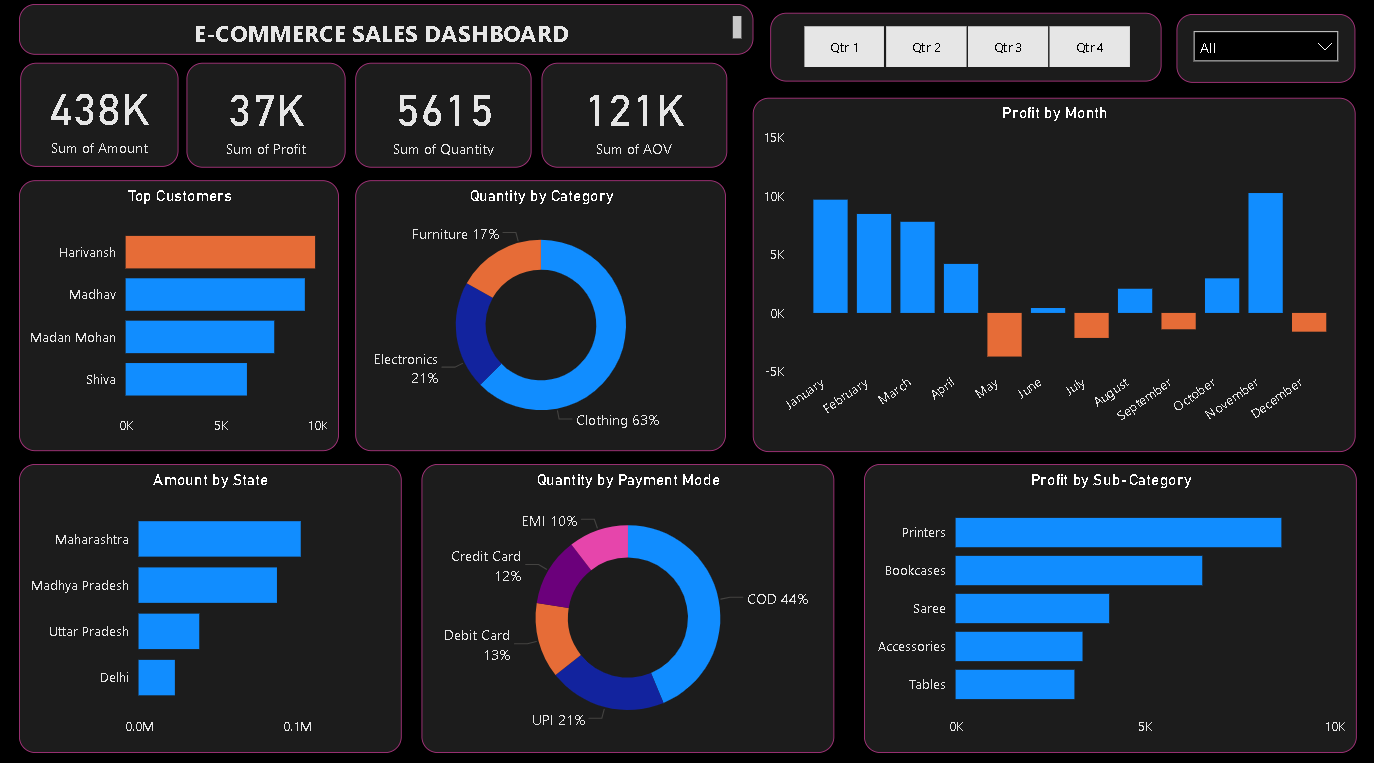

The page's visual inventory and layout, read from the dashboard file:
{"tool":"powerbi","page":{"name":"Page 1","canvas":[1280,720],"ordinal":0},"visuals":[{"type":"textbox","box":[18.1,4.8,682.8,47.1],"z":0},{"type":"columnChart","title":"Profit by Month","fields":{"Category":["Orders.Order Date.Variation.Date Hierarchy.Month"],"Y":["Details.Profit"]},"box":[700.9,91.7,561,329.4],"z":1000},{"type":"barChart","title":"Profit by Sub-Category","fields":{"Category":["Details.Sub-Category"],"Y":["Details.Profit"]},"box":[804.7,432.6,458.1,268.6],"z":2000},{"type":"pieChart","title":"Quantity by Category","fields":{"Category":["Details.Category"],"Y":["Details.Quantity"]},"box":[331.8,168.9,345,252.1],"z":3000},{"type":"donutChart","title":"Quantity by Payment Mode","fields":{"Y":["Details.Quantity"],"Category":["Details.PaymentMode"]},"box":[393,432.6,383.7,268.6],"z":4000},{"type":"card","fields":{"Values":["Details.Amount"]},"box":[19.3,59.1,147.2,96.5],"z":5000},{"type":"card","fields":{"Values":["Details.Quantity"]},"box":[331.8,59.1,164.1,97.7],"z":6000},{"type":"card","fields":{"Values":["Details.Profit"]},"box":[174.9,59.1,148.4,97.7],"z":7000},{"type":"card","fields":{"Values":["Details.AOV"]},"box":[504.3,59.1,172.5,97.7],"z":8000},{"type":"barChart","title":"Amount by State","fields":{"Category":["Orders.State"],"Y":["Details.Amount"]},"box":[18.6,432.6,355.8,268.6],"z":9000},{"type":"slicer","fields":{"Values":["Orders.Order Date.Variation.Date Hierarchy.Quarter"]},"box":[717.8,13.3,364.3,63.9],"z":10000},{"type":"slicer","fields":{"Values":["Orders.State"]},"box":[1095.4,14.5,166.5,63.9],"z":11000},{"type":"barChart","title":"Top Customers","fields":{"Y":["Details.Amount"],"Category":["Orders.CustomerName"]},"box":[18.1,168.9,298,252.1],"z":12000}]}

Visuals, with their boxes in screenshot pixels (x1, y1, x2, y2), scaled from the page's 1280x720 canvas onto the 1374x763 screenshot:
textbox: x1=19 y1=5 x2=752 y2=55
"Profit by Month" columnChart: x1=752 y1=97 x2=1355 y2=446
"Profit by Sub-Category" barChart: x1=864 y1=458 x2=1356 y2=743
"Quantity by Category" pieChart: x1=356 y1=179 x2=727 y2=446
"Quantity by Payment Mode" donutChart: x1=422 y1=458 x2=834 y2=743
card - Details.Amount: x1=21 y1=63 x2=179 y2=165
card - Details.Quantity: x1=356 y1=63 x2=532 y2=166
card - Details.Profit: x1=188 y1=63 x2=347 y2=166
card - Details.AOV: x1=541 y1=63 x2=727 y2=166
"Amount by State" barChart: x1=20 y1=458 x2=402 y2=743
slicer - Orders.Order Date.Variation.Date Hierarchy.Quarter: x1=771 y1=14 x2=1162 y2=82
slicer - Orders.State: x1=1176 y1=15 x2=1355 y2=83
"Top Customers" barChart: x1=19 y1=179 x2=339 y2=446
